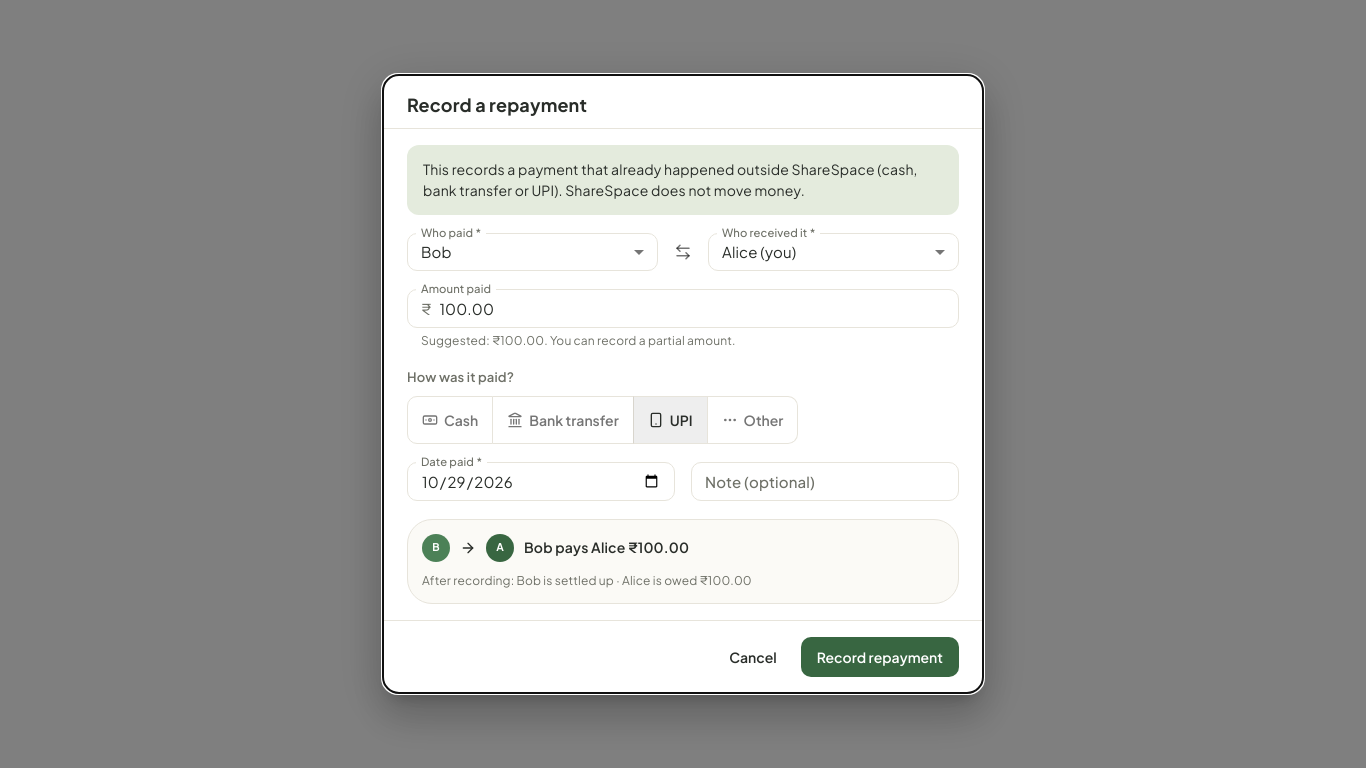
Test case: settlement confirmation › rejects an invalid amount without submitting
Clear the field labelled "Amount paid" at (699, 309), box left=439, top=289, right=959, bottom=328
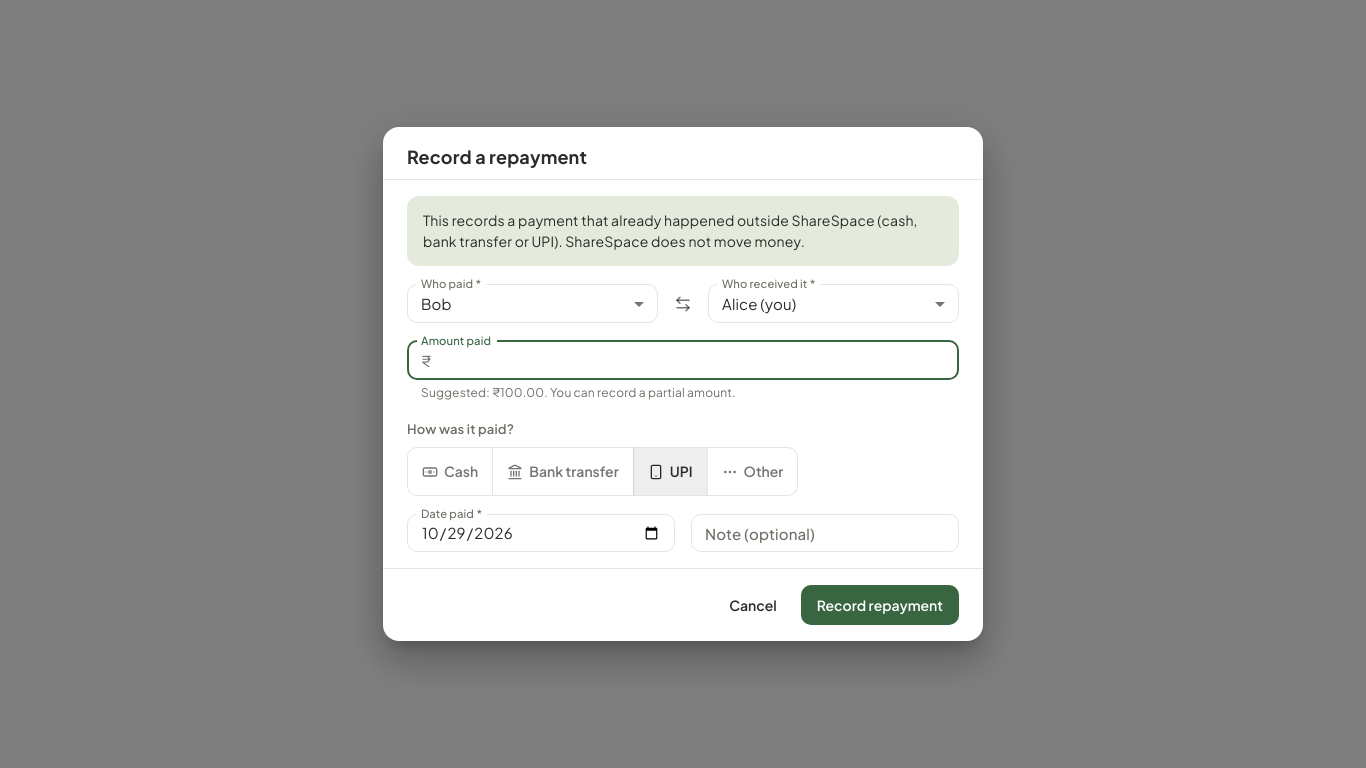
Type "1.234" into the field labelled "Amount paid" at (699, 360), box left=439, top=341, right=959, bottom=380
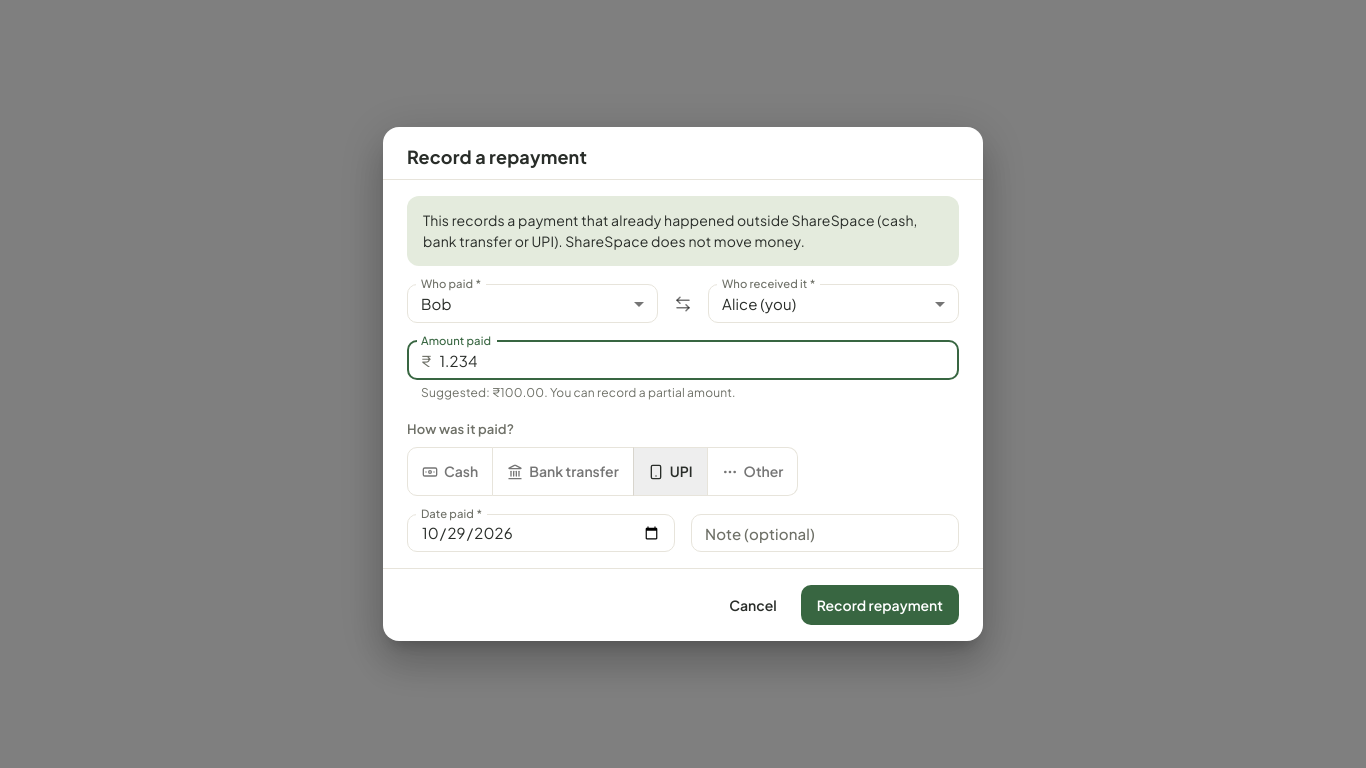
Click the button "Record repayment" at (880, 605), box left=801, top=585, right=959, bottom=625
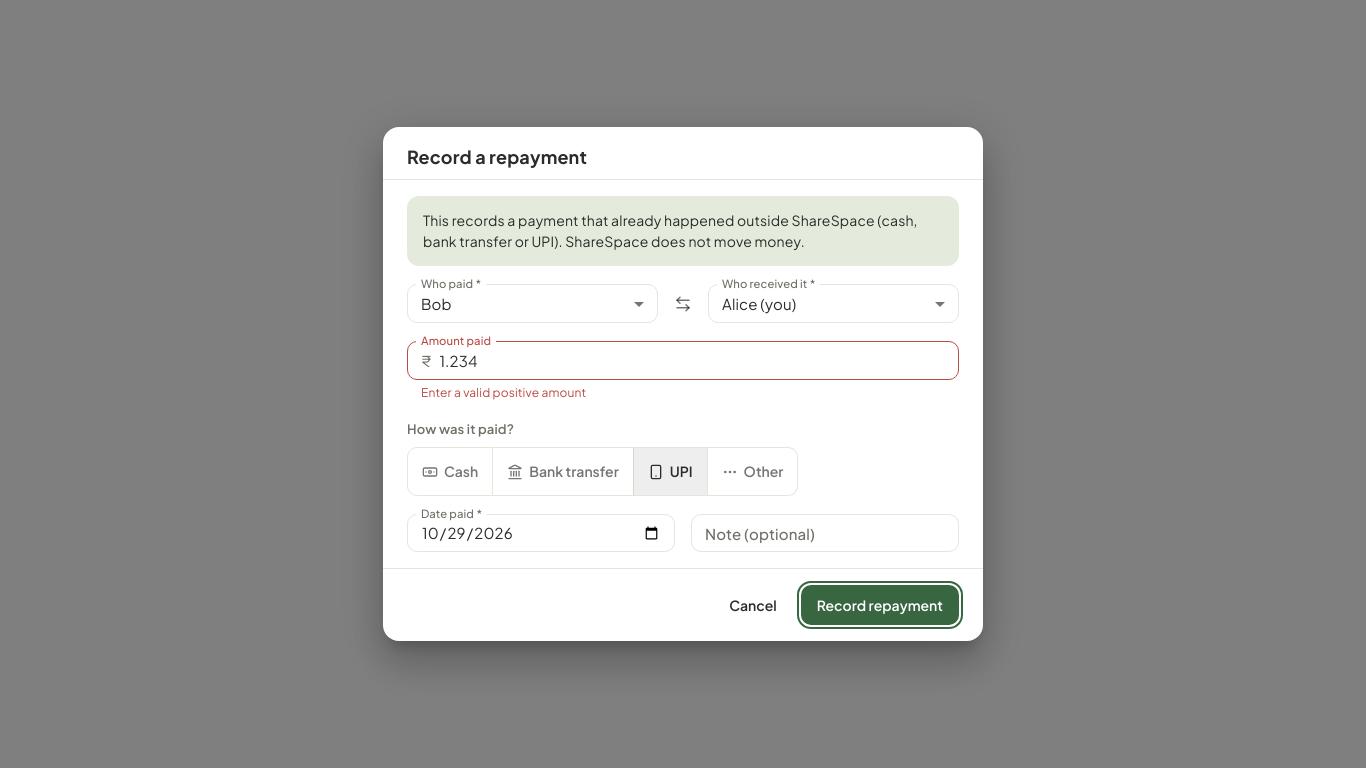
Expected: the text "Enter a valid positive amount" is shown, left=421, top=384, right=586, bottom=400
